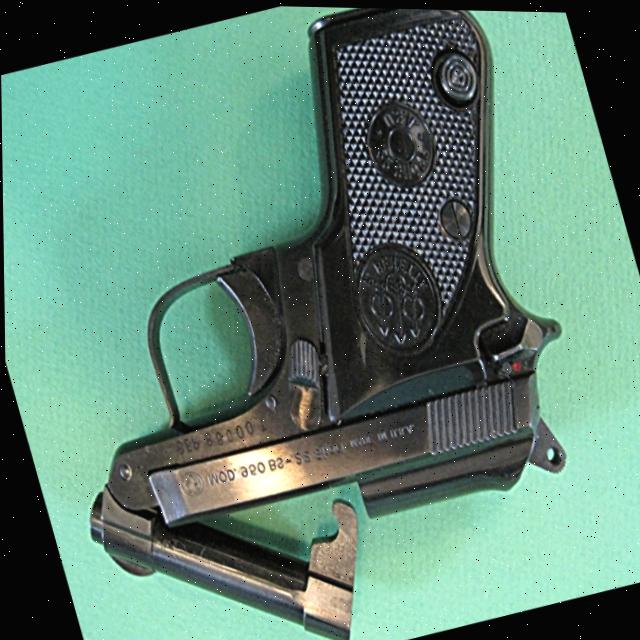pistol: (0, 0, 638, 640)
